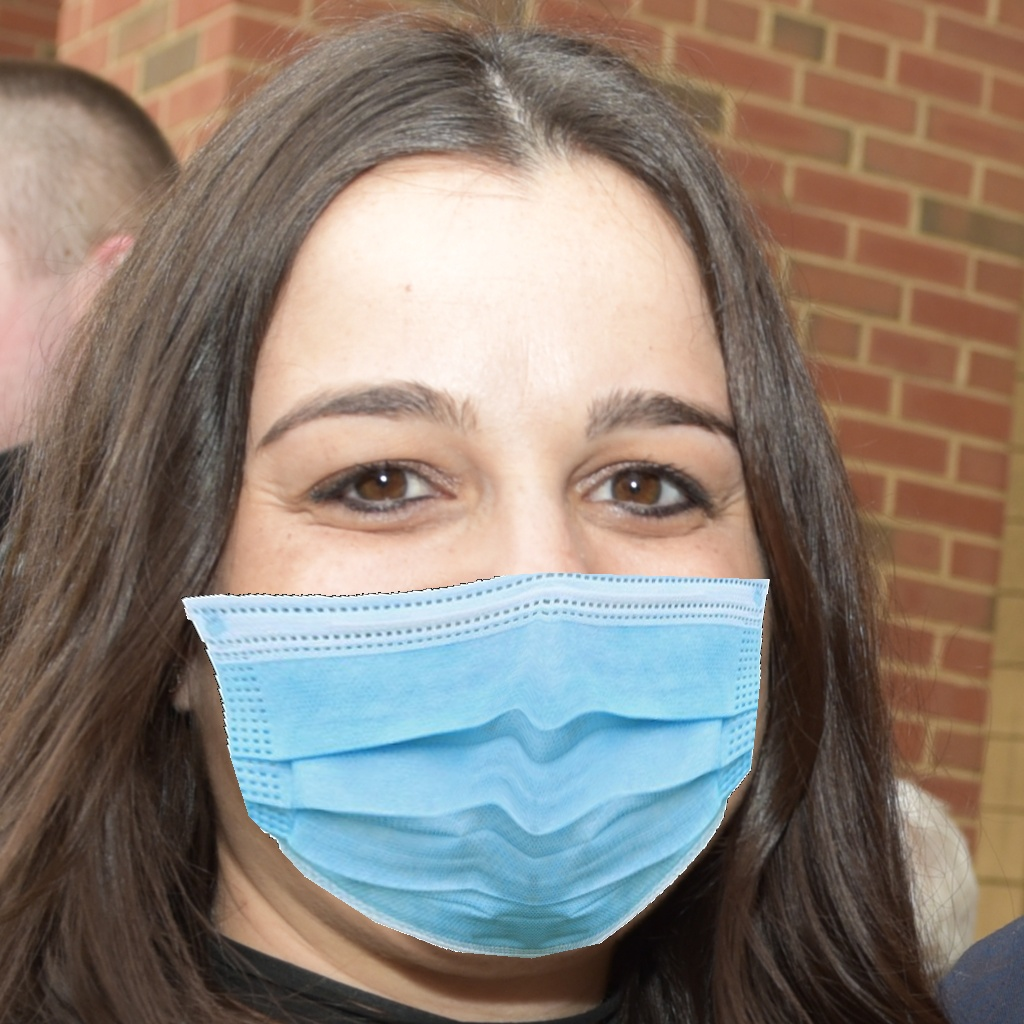Mask: (180, 345, 800, 960)
